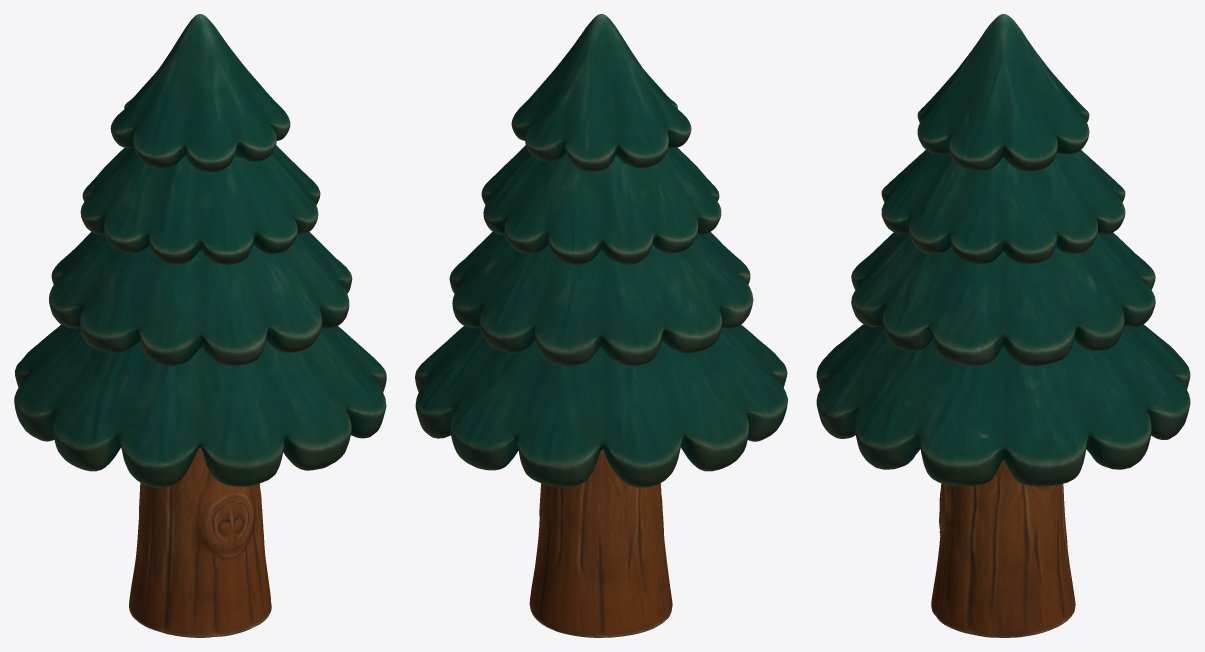
File: tree_b.glb
The picture shows the model from 3 angles, left to right: view 1: azimuth 30°, elevation 25°; view 2: azimuth 150°, elevation 25°; view 3: azimuth 270°, elevation 25°; orthographic projection.
Bounding box in the file's own units: 0.5615 × 1 × 0.5711.
1 material, 1 textured.
